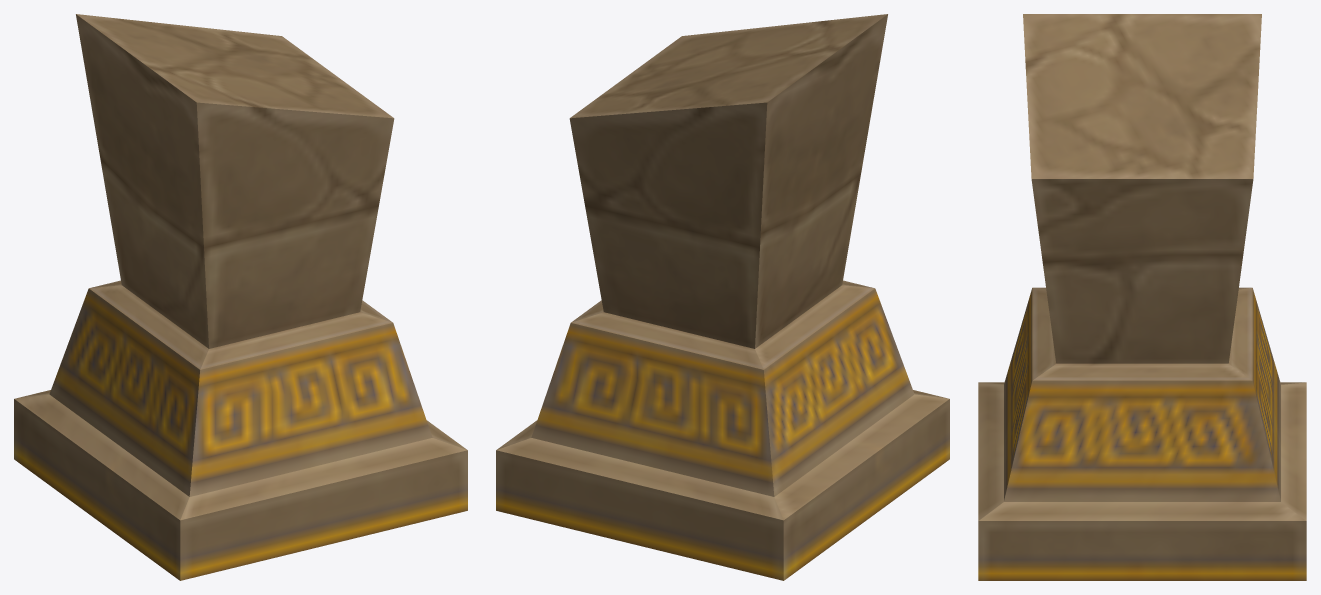
The model's file is desert_dungeon_prop_3_4.FBX.
The picture shows the model from 3 angles, left to right: view 1: azimuth 30°, elevation 25°; view 2: azimuth 150°, elevation 25°; view 3: azimuth 270°, elevation 25°; orthographic projection.
Parts seen in each view (by area): view 1: Box023; view 2: Box023; view 3: Box023.
Boxes of the visible parts, x1,y1,x2,y2 form: Box023: (14,14,467,580); Box023: (496,14,949,580); Box023: (978,14,1306,580).
Size of the model in its own units: 22.37 by 22.37 by 33.63.
